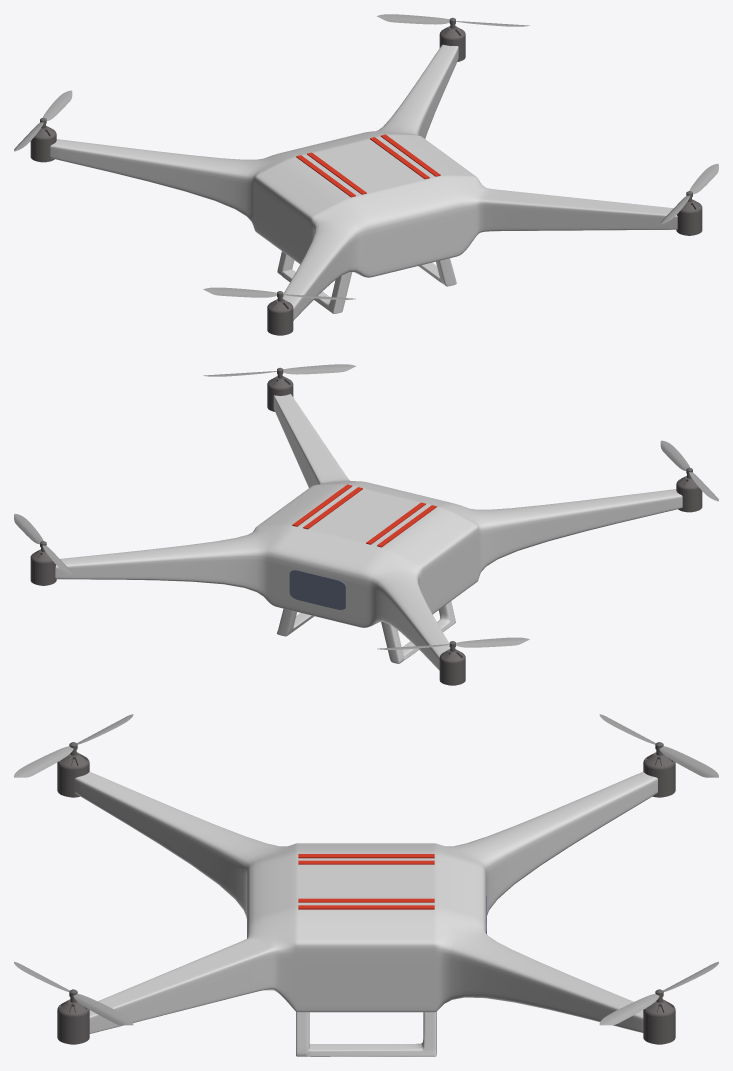
File: дрон.fbx
3 views of the same model, one above another, from view 1: azimuth 30°, elevation 25°; view 2: azimuth 150°, elevation 25°; view 3: azimuth 270°, elevation 25° (orthographic). The views are drawn at different scales.
Visible parts, largest first — view 1: тело, фігня, inexrb, Cube.003; view 2: тело, фігня, inexrb, Cube, Cube.003; view 3: тело, фігня, inexrb, Cube.003.
Boxes of the visible parts, x1,y1,x2,y2 form: тело: (50, 44, 677, 320); фігня: (30, 17, 702, 335); inexrb: (14, 14, 718, 299); Cube.003: (296, 134, 440, 197); тело: (55, 394, 682, 670); фігня: (30, 367, 702, 685); inexrb: (14, 364, 718, 649); Cube: (289, 570, 345, 609); Cube.003: (292, 484, 436, 547); тело: (75, 771, 657, 1056); фігня: (57, 742, 675, 1044); inexrb: (14, 714, 718, 1025); Cube.003: (298, 854, 434, 909).
Bounding box in the file's own units: 795 × 183 × 761.
